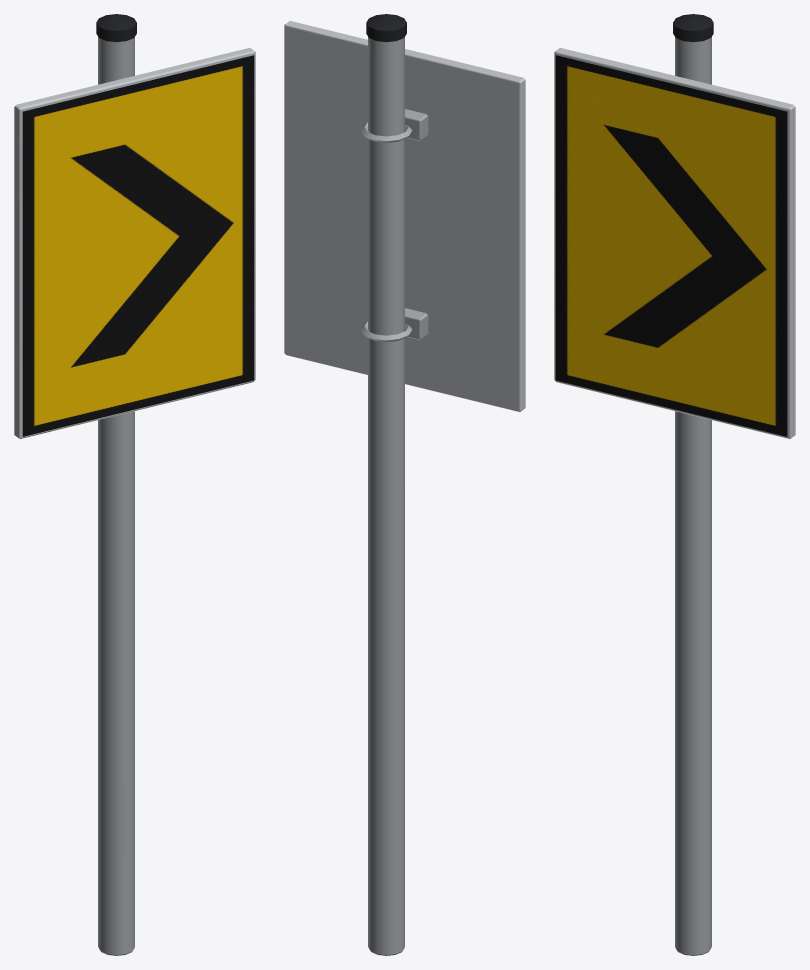
File: chevron_curve_sign.fbx
The picture shows the model from 3 angles, left to right: view 1: azimuth 30°, elevation 25°; view 2: azimuth 150°, elevation 25°; view 3: azimuth 330°, elevation 25°; orthographic projection.
Visible parts, largest first — view 1: chevron_curve_sign; view 2: chevron_curve_sign; view 3: chevron_curve_sign.
Boxes of the visible parts, x1,y1,x2,y2 form: chevron_curve_sign: [14, 14, 255, 955]; chevron_curve_sign: [284, 14, 525, 955]; chevron_curve_sign: [554, 14, 795, 955].
Bounding box in the file's own units: 0.45 × 1.69 × 0.1141.
Materials: 4 (1 with a texture image).
